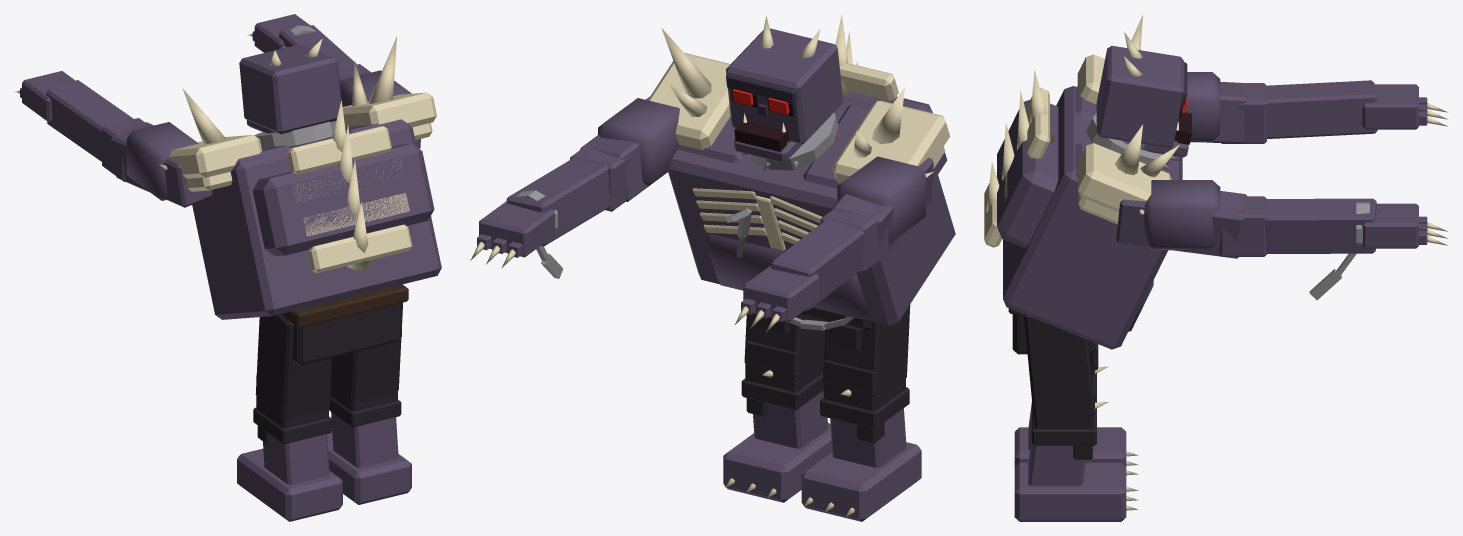
Rendered from boss.glb.
3 renders of one model, left to right at view 1: azimuth 30°, elevation 25°; view 2: azimuth 150°, elevation 25°; view 3: azimuth 270°, elevation 25°, orthographic. The views are drawn at different scales.
Parts seen in each view (by area): view 1: Torso, LegL, LegR, ArmL, Head, Hips, ArmR; view 2: Torso, LegL, ArmR, ArmL, LegR, Head, Hips; view 3: Torso, ArmR, LegR, ArmL, Head, LegL, Hips.
Part boxes in pixels (bbox=[...]): Torso: bbox=[169, 36, 441, 319]; LegL: bbox=[237, 314, 342, 521]; LegR: bbox=[327, 302, 411, 504]; ArmL: bbox=[14, 71, 212, 207]; Head: bbox=[239, 39, 341, 134]; Hips: bbox=[281, 284, 408, 365]; ArmR: bbox=[247, 14, 420, 148]; Torso: bbox=[648, 14, 955, 325]; LegL: bbox=[801, 304, 921, 521]; ArmR: bbox=[470, 96, 679, 278]; ArmL: bbox=[735, 156, 933, 332]; LegR: bbox=[723, 313, 832, 502]; Head: bbox=[726, 16, 843, 162]; Hips: bbox=[757, 307, 871, 352]; Torso: bbox=[984, 15, 1182, 349]; ArmR: bbox=[1116, 180, 1447, 300]; LegR: bbox=[1014, 314, 1138, 521]; ArmL: bbox=[1185, 72, 1447, 143]; Head: bbox=[1096, 32, 1191, 157]; LegL: bbox=[1014, 366, 1138, 475]; Hips: bbox=[1008, 308, 1098, 370].
Size of the model in its own units: 3.35 by 4.97 by 4.67.
